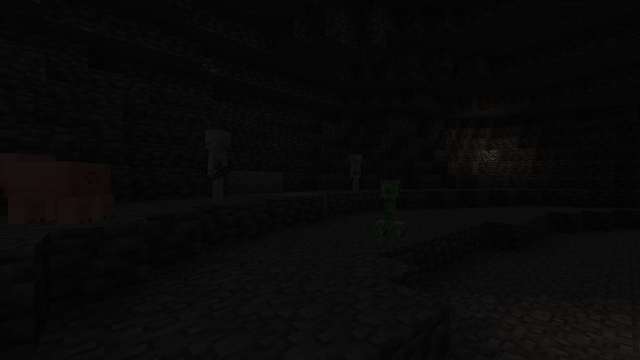cochons: (6, 157, 100, 228)
creepers: (375, 177, 404, 237)
squelettes: (204, 129, 232, 202), (347, 154, 362, 191)
